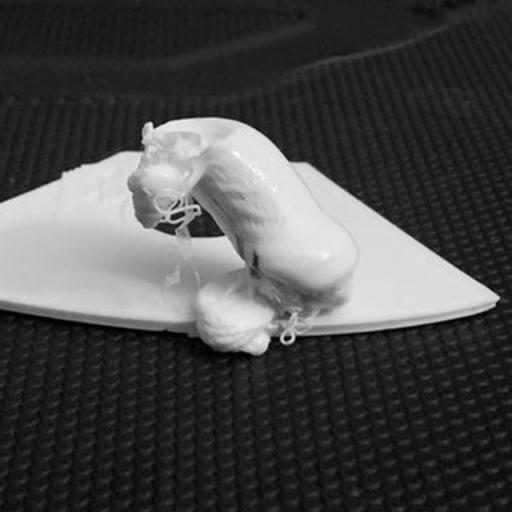spaghetti_and_stringing: (153, 191, 203, 287), (255, 274, 303, 312), (280, 310, 313, 346)
